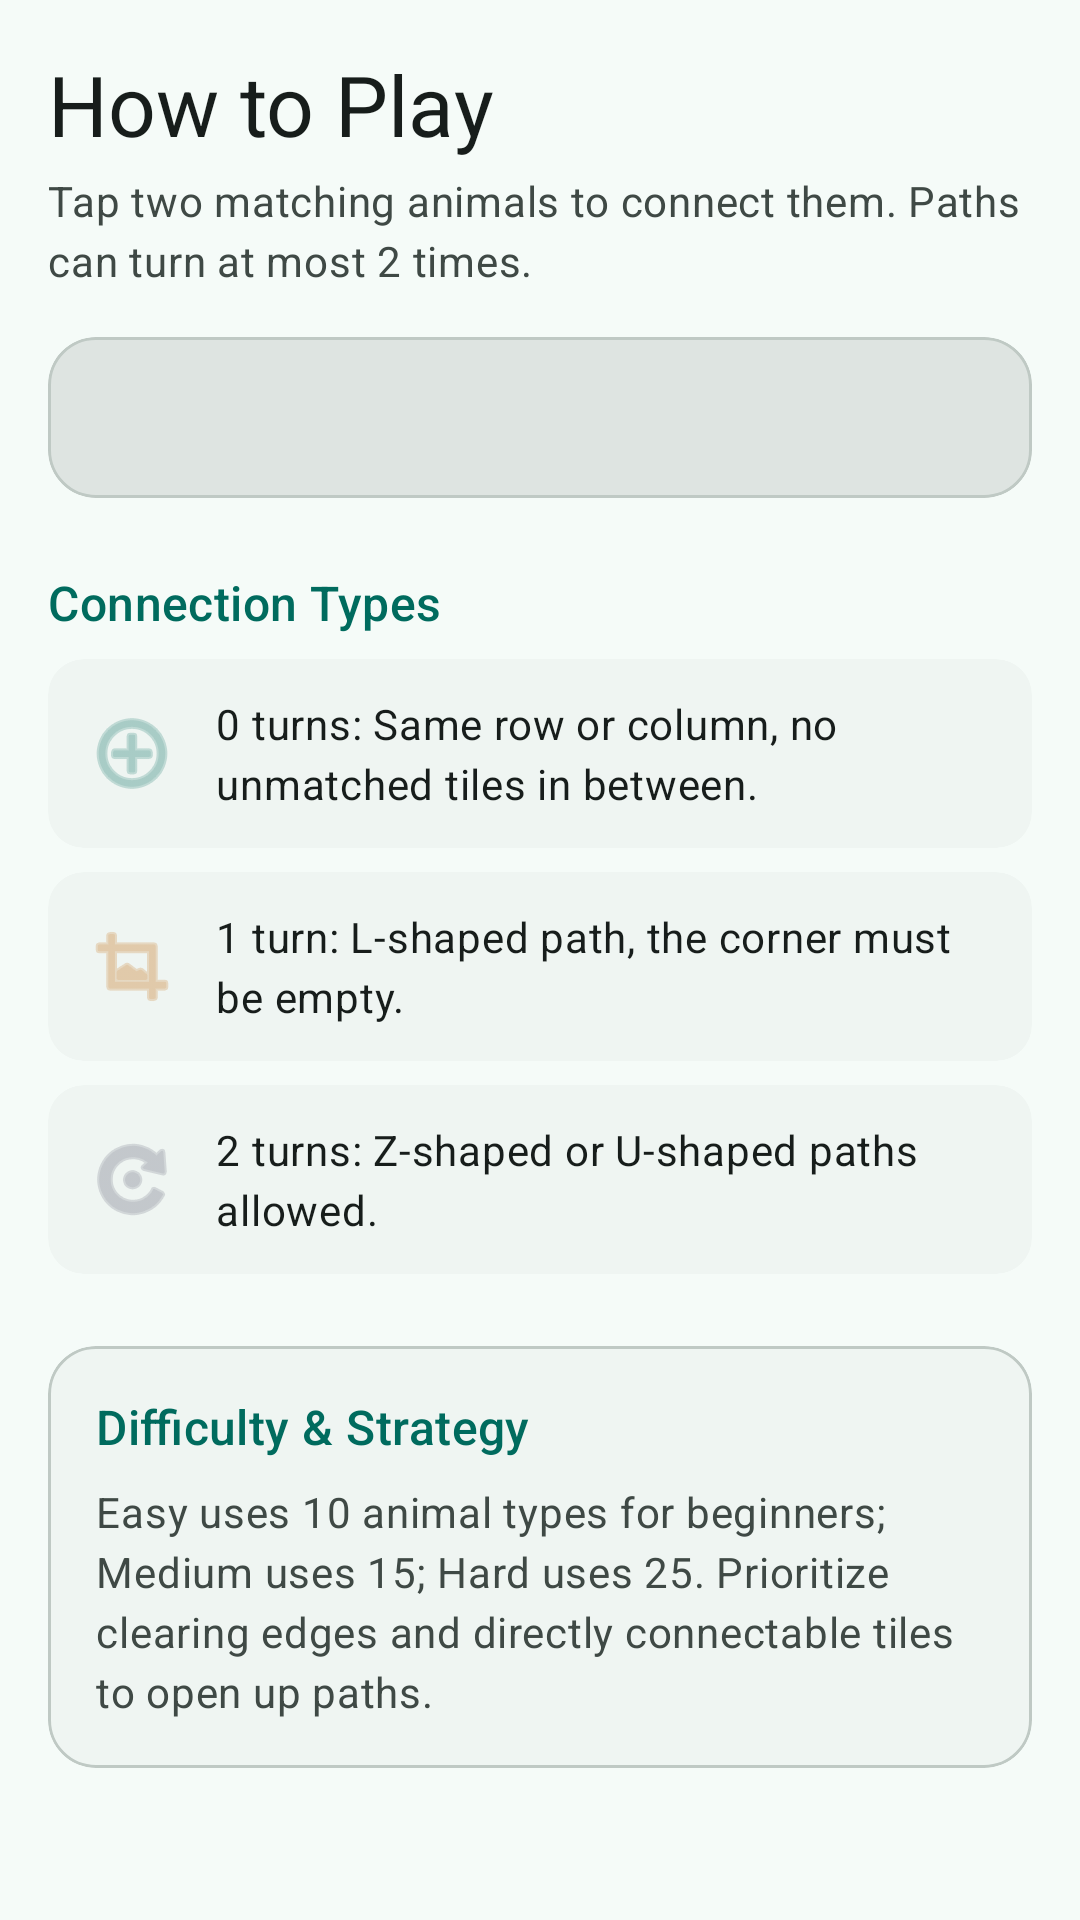

Icons on this 1080*1920 Android screen, each with its box as (x1, y1, x2, y2):
add: (97, 718, 167, 789)
crop: (96, 932, 168, 1001)
rotate: (97, 1144, 166, 1215)
